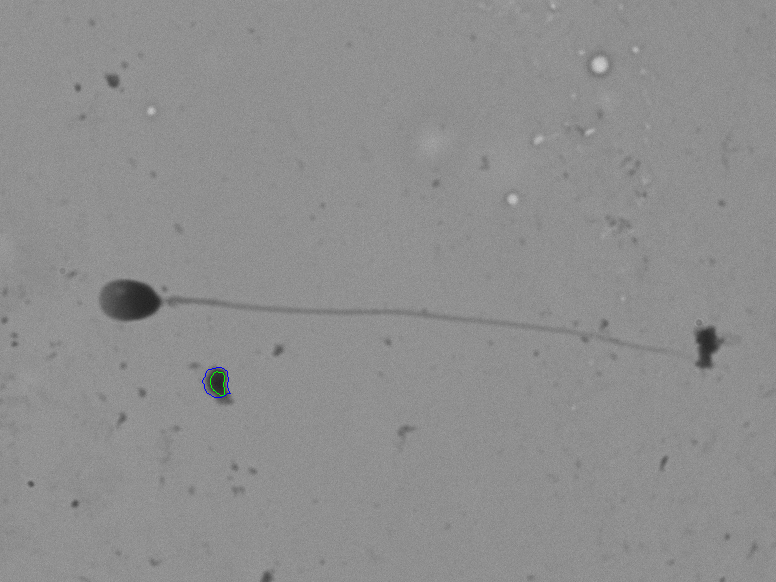Normal: (58, 219, 697, 368)
